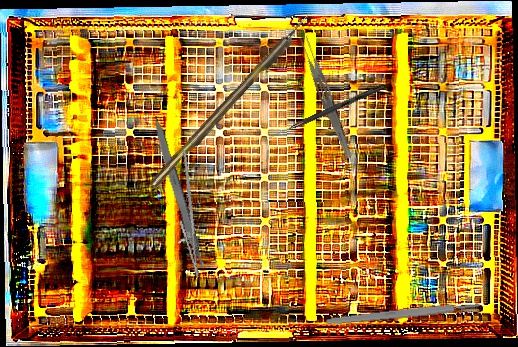Dressing Forceps: (296, 34, 358, 160)
Hook Surgical: (148, 11, 316, 189), (267, 82, 386, 142)
Needle Holder: (157, 149, 216, 281)
Scalpel Handle: (148, 114, 207, 271), (325, 300, 482, 327)
